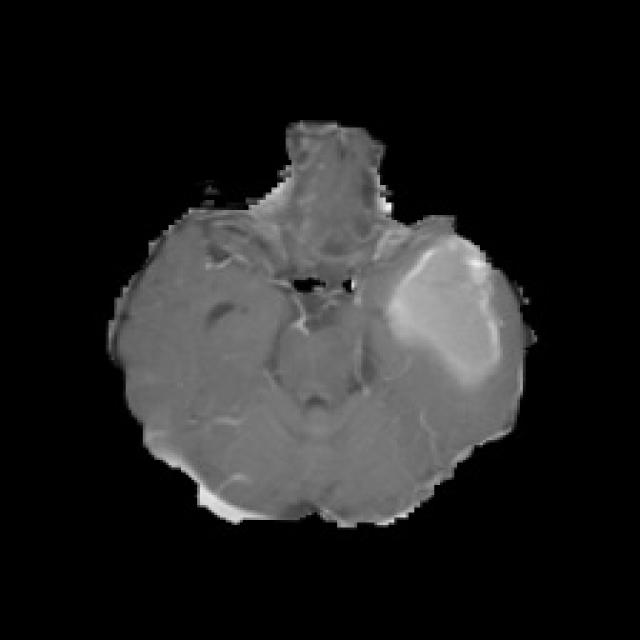negative: (380, 237, 500, 385)
